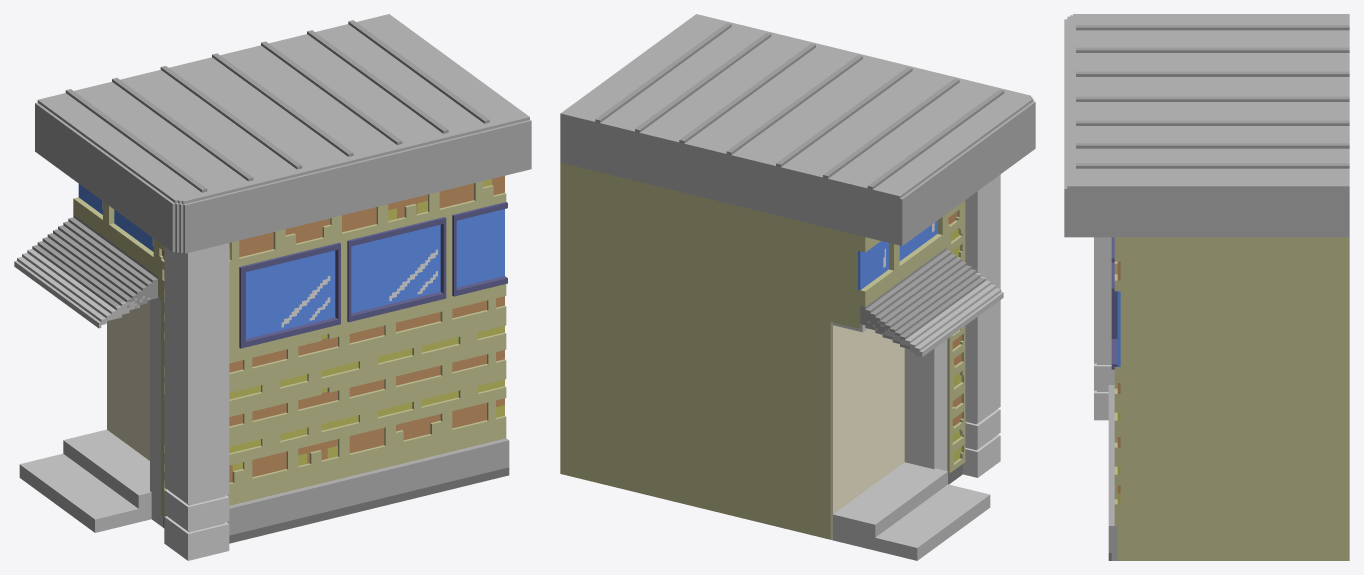
The model's file is gatehouse-4.obj.
The picture shows the model from 3 angles, left to right: view 1: azimuth 30°, elevation 25°; view 2: azimuth 150°, elevation 25°; view 3: azimuth 270°, elevation 25°; orthographic projection. The views are drawn at different scales.
Size of the model in its own units: 14.6 by 14 by 9.6.
Materials: 1 (1 with a texture image).
